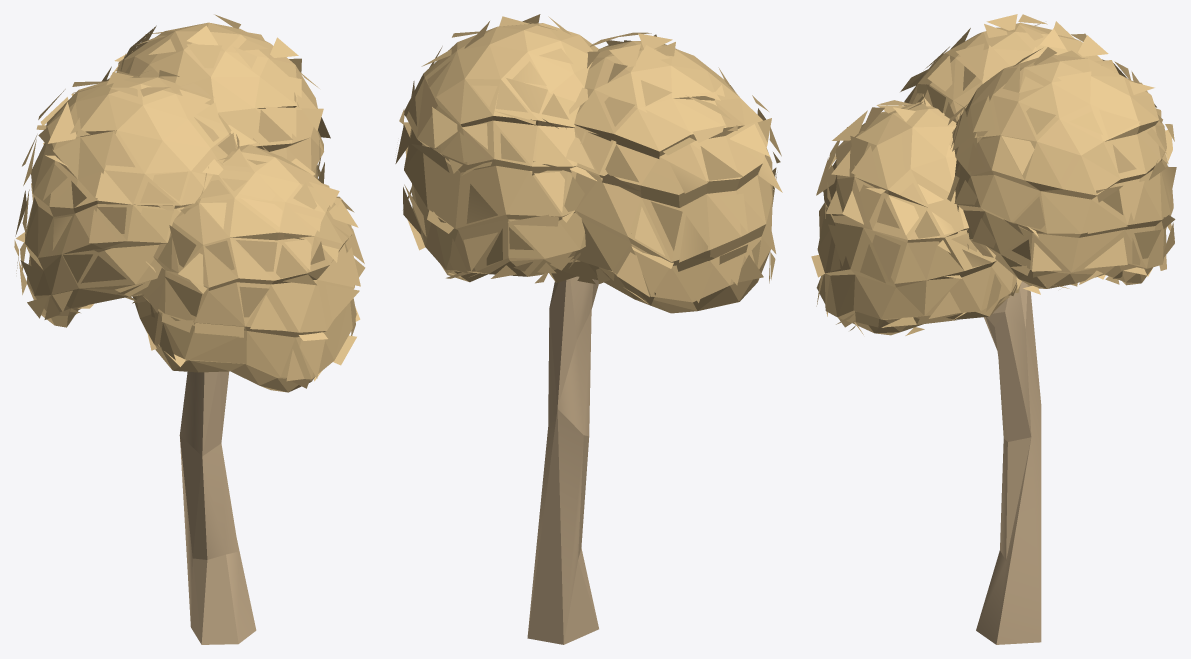
Rendered from DriedbigtoothA.fbx.
3 views of the same model, side by side, from view 1: azimuth 30°, elevation 25°; view 2: azimuth 150°, elevation 25°; view 3: azimuth 270°, elevation 25° (orthographic). The views are drawn at different scales.
Visible parts, largest first — view 1: Icosphere.007, trunk.005; view 2: Icosphere.007, trunk.005; view 3: Icosphere.007, trunk.005.
Boxes of the visible parts, bbox=[...] form: Icosphere.007: bbox=[14, 14, 365, 392]; trunk.005: bbox=[179, 371, 256, 644]; Icosphere.007: bbox=[395, 14, 782, 313]; trunk.005: bbox=[527, 276, 598, 644]; Icosphere.007: bbox=[811, 14, 1176, 335]; trunk.005: bbox=[976, 281, 1041, 644].
Size of the model in its own units: 445 by 807 by 457.
